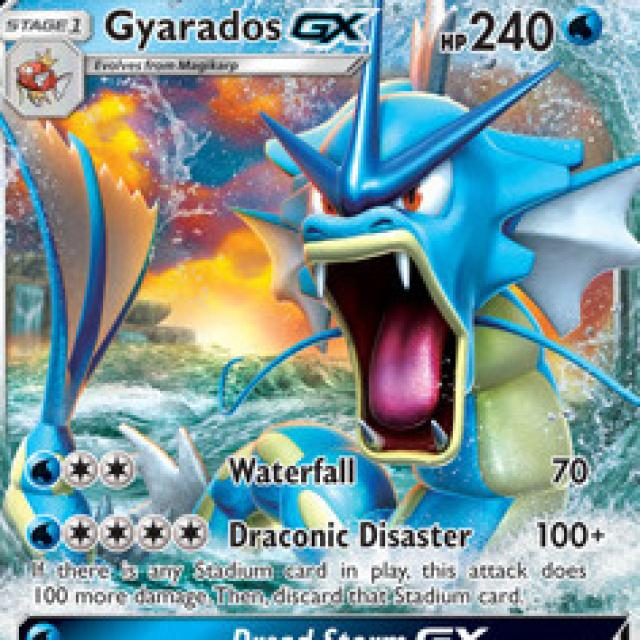Gyarados: (218, 81, 600, 525)
